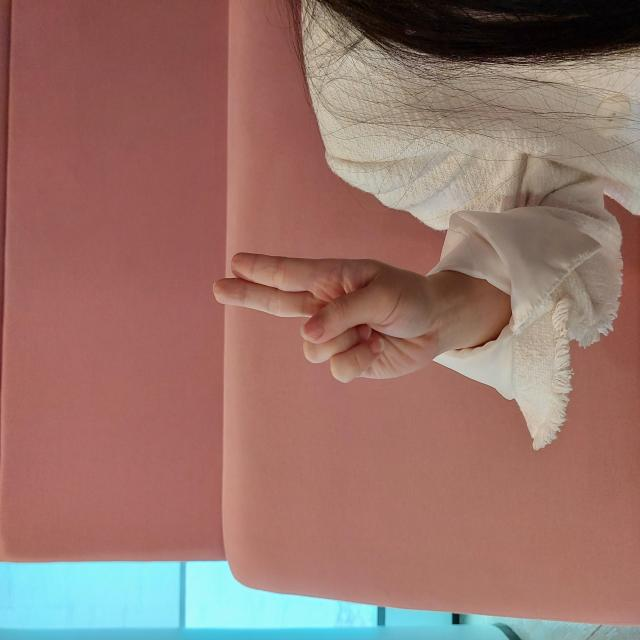U: (256, 212, 390, 438)
